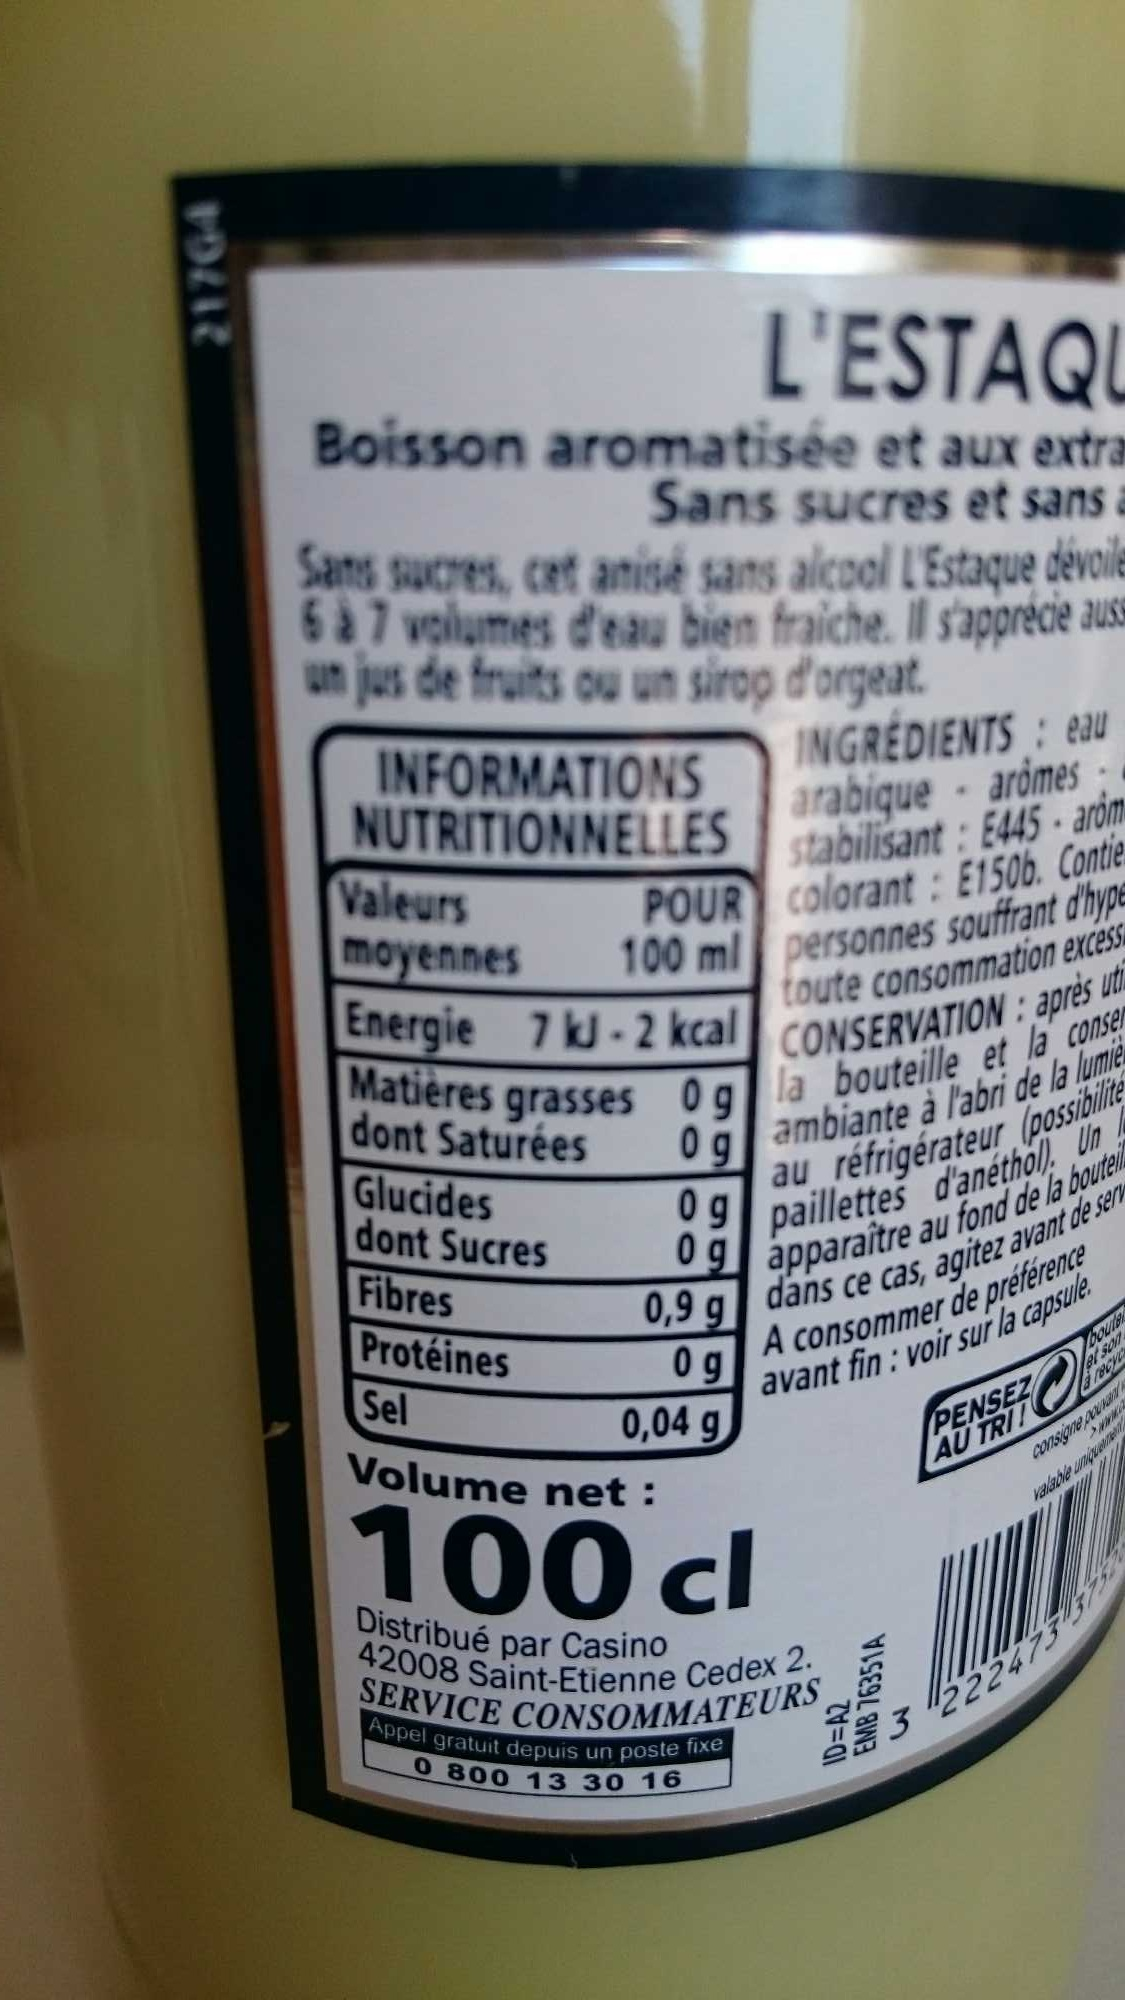column: (341, 874, 742, 1455)
table: (319, 859, 751, 1466)
